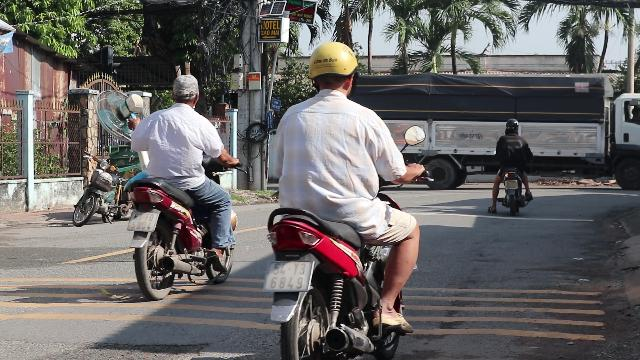helmet: (306, 41, 358, 97)
licenseplate: (264, 260, 310, 289), (127, 212, 157, 230)
motorcyclist: (257, 40, 429, 356), (120, 70, 242, 298)
nohelmet: (170, 74, 202, 109)
